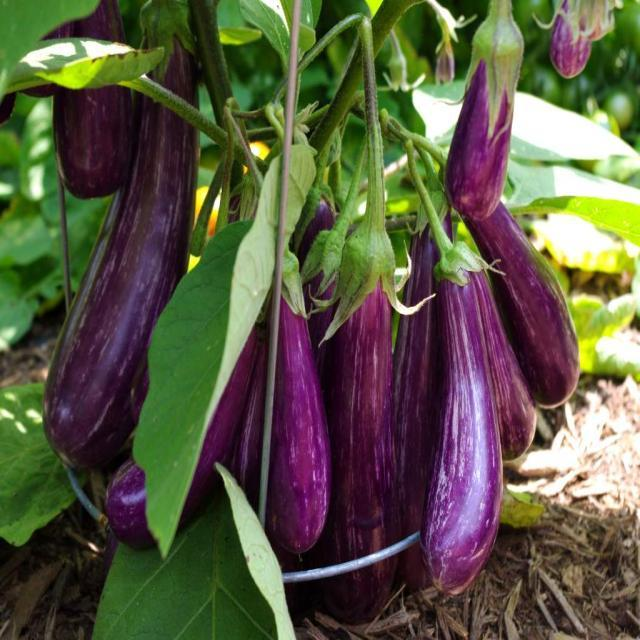eggplant: (40, 1, 203, 472), (329, 219, 402, 617), (428, 237, 502, 597), (466, 190, 583, 410), (257, 243, 331, 555), (446, 1, 520, 220)
